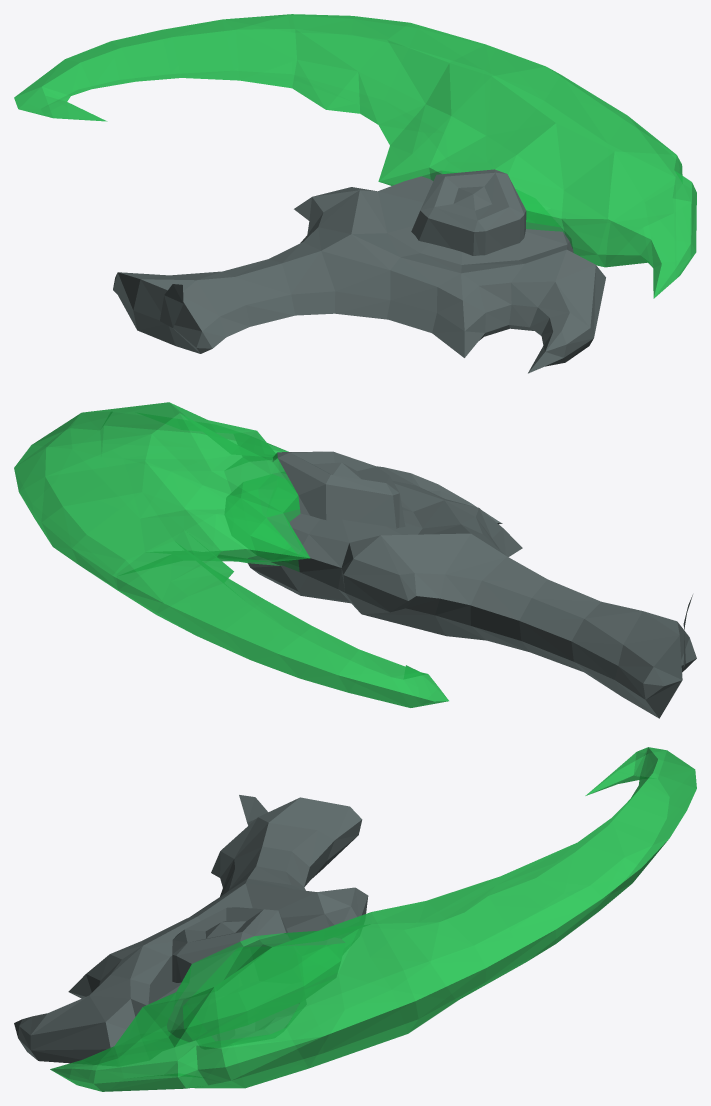
Rendered from HOOK.fbx.
The picture shows the model from 3 angles, top to bottom: view 1: azimuth 30°, elevation 25°; view 2: azimuth 150°, elevation 25°; view 3: azimuth 270°, elevation 25°; orthographic projection. The views are drawn at different scales.
Parts seen in each view (by area): view 1: Thresh; view 2: Thresh; view 3: Thresh.
Part boxes in pixels (x1,y1,x2,y2): Thresh: (14, 14, 696, 373); Thresh: (14, 402, 696, 718); Thresh: (14, 747, 696, 1091).
Size of the model in its own units: 2.6 by 0.8081 by 2.58.
